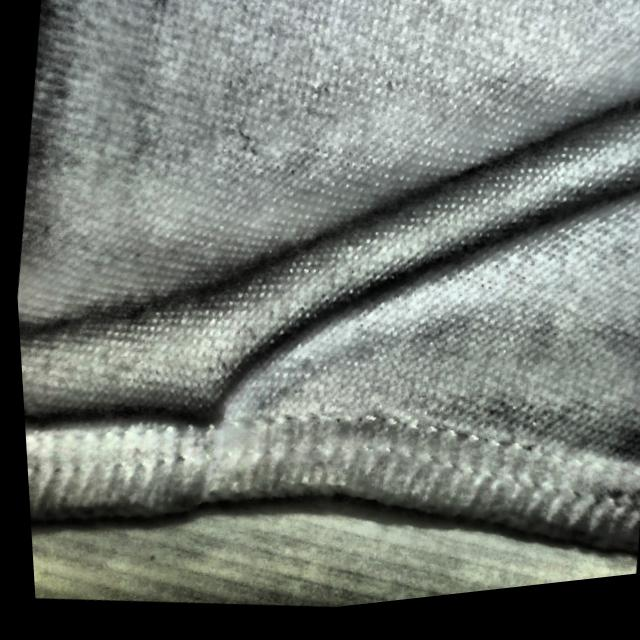seam: (76, 271, 314, 553)
